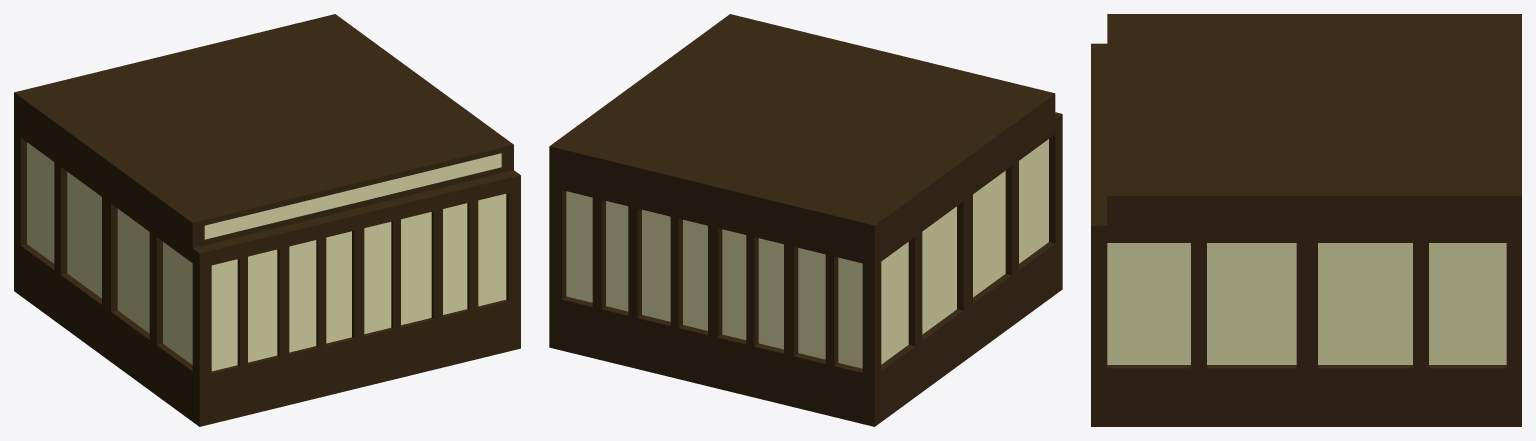
Rendered from SolidBuilding.fbx.
The picture shows the model from 3 angles, left to right: view 1: azimuth 30°, elevation 25°; view 2: azimuth 150°, elevation 25°; view 3: azimuth 270°, elevation 25°; orthographic projection. The views are drawn at different scales.
Visible parts, largest first — view 1: Cube.002; view 2: Cube.002; view 3: Cube.002.
Boxes of the visible parts, x1=… form: Cube.002: x1=14, y1=14, x2=520, y2=426; Cube.002: x1=549, y1=14, x2=1062, y2=426; Cube.002: x1=1091, y1=14, x2=1521, y2=426.
Bounding box in the file's own units: 1255 × 743 × 1255.
